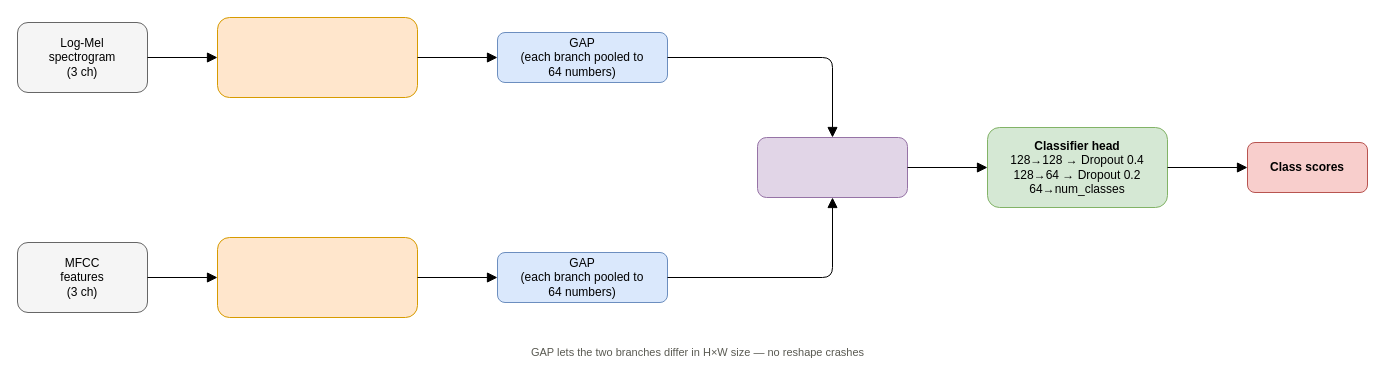
The diagram is 1385 pixels wide and 385 high, and some of its shapes have lost their labels. Each missing label, with the box of its shape:
Concat 128-dim vector: (756, 136, 908, 198)
MFCC branch DepthwiseSeparable 3→32 DepthwiseSeparable 32→64: (216, 236, 418, 318)
Spec branch DepthwiseSeparable 3→32 DepthwiseSeparable 32→64: (216, 16, 418, 98)
